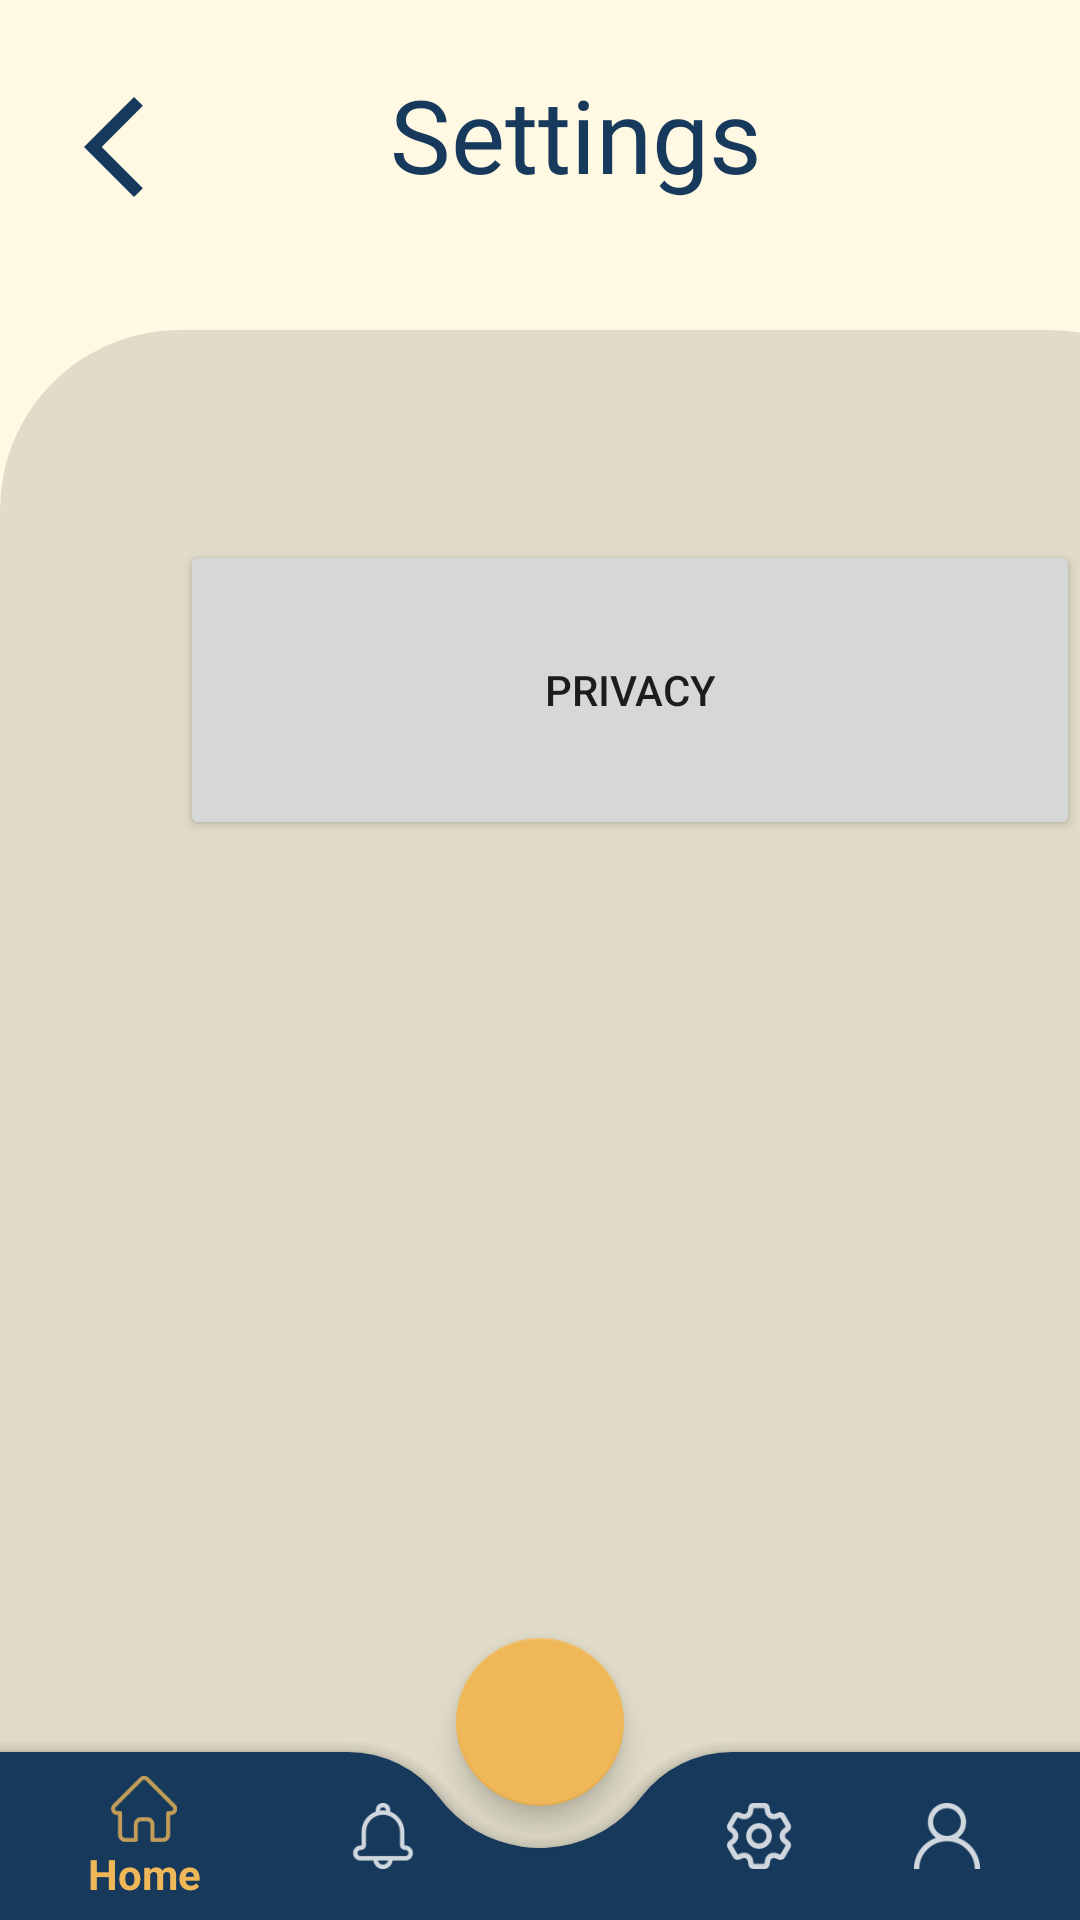

Icon bounding boxes for this 1080 x 1920 phone screenshot, format (x1, y1, x2, y2):
arrow back: (84, 97, 143, 197)
